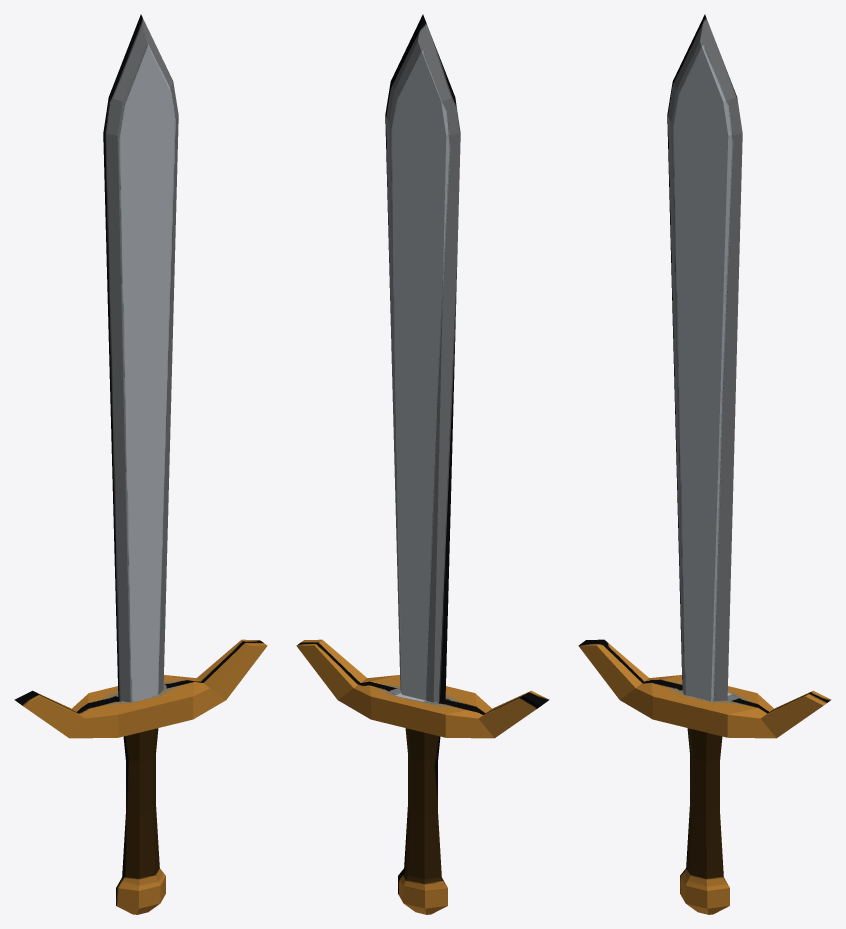
Rendered from SwordKnight.fbx.
3 renders of one model, left to right at view 1: azimuth 30°, elevation 25°; view 2: azimuth 150°, elevation 25°; view 3: azimuth 330°, elevation 25°, orthographic.
Visible parts, largest first — view 1: pPlane1; view 2: pPlane1; view 3: pPlane1.
Boxes of the visible parts, x1,y1,x2,y2 form: pPlane1: (14, 14, 267, 914); pPlane1: (296, 14, 549, 914); pPlane1: (578, 14, 831, 914).
Bounding box in the file's own units: 2.65 × 9.27 × 0.5517.
1 material, 1 textured.
